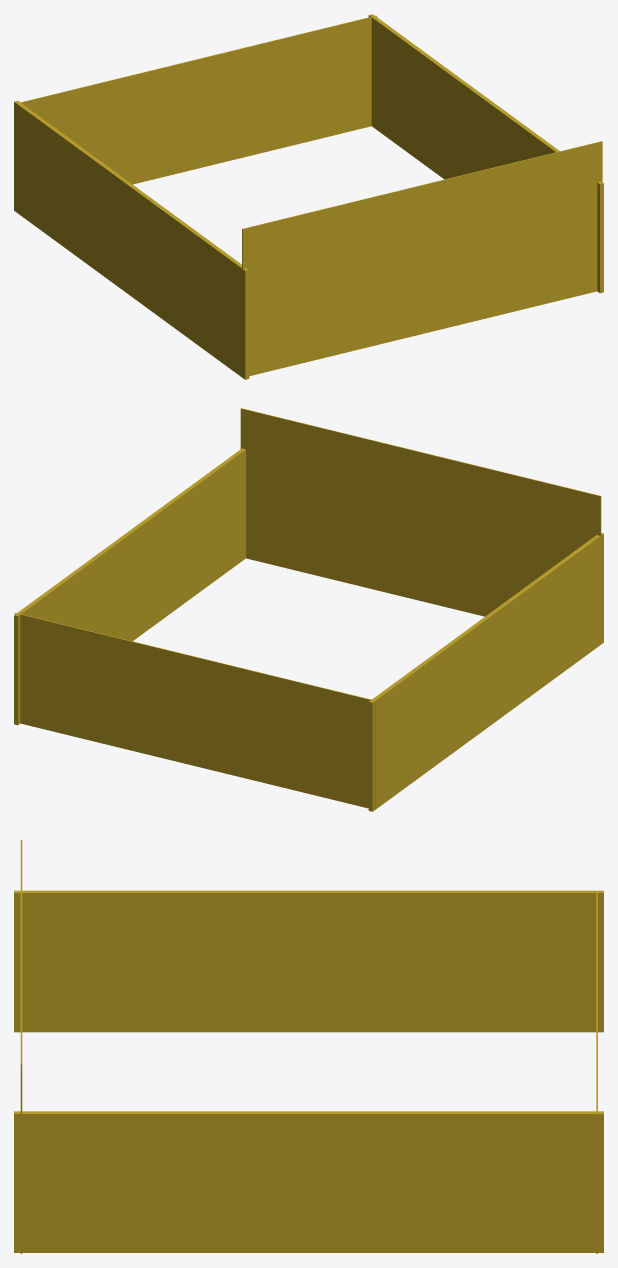
Rendered from walls.glb.
The picture shows the model from 3 angles, top to bottom: view 1: azimuth 30°, elevation 25°; view 2: azimuth 150°, elevation 25°; view 3: azimuth 270°, elevation 25°; orthographic projection. The views are drawn at different scales.
Parts seen in each view (by area): view 1: Cube.002, Cube.003, Cube.005, Cube.004; view 2: Cube.002, Cube.003, Cube.005, Cube.004; view 3: Cube.005, Cube.004, Cube.002, Cube.003.
Boxes of the visible parts, x1,y1,x2,y2 form: Cube.002: [242, 141, 602, 377]; Cube.003: [16, 15, 376, 212]; Cube.005: [14, 100, 249, 379]; Cube.004: [368, 14, 603, 293]; Cube.002: [240, 408, 601, 644]; Cube.003: [15, 613, 375, 809]; Cube.005: [368, 533, 603, 811]; Cube.004: [14, 448, 245, 725]; Cube.005: [14, 890, 603, 1032]; Cube.004: [14, 1111, 603, 1252]; Cube.002: [20, 840, 22, 1253]; Cube.003: [596, 890, 597, 1253].
Size of the model in its own units: 122 by 47.91 by 135.
